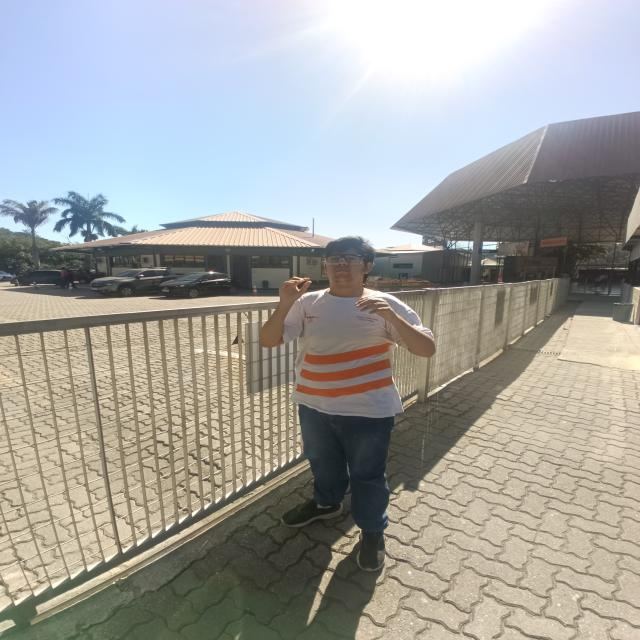oculos-epi: (325, 254, 364, 265)
